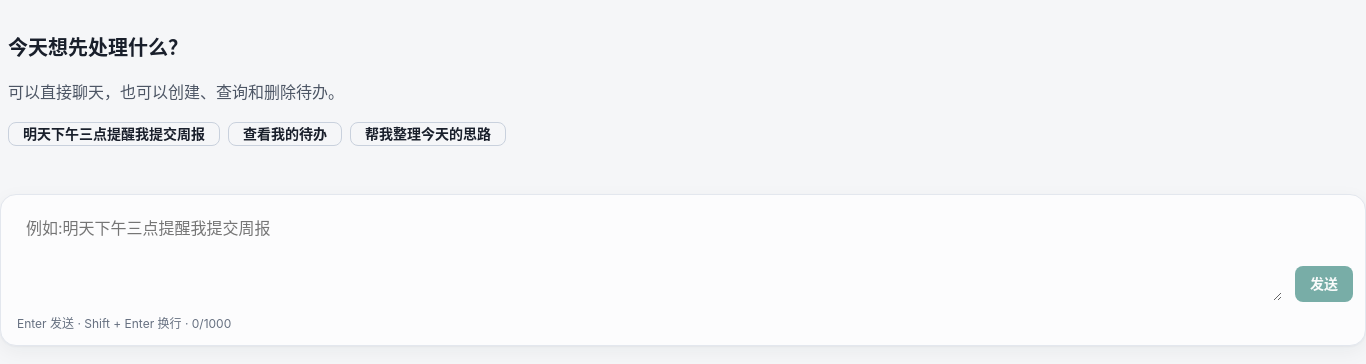
Test case: renders a chat reply as the assistant message
In the text box named "消息": point(650, 254) x1=17 y1=207 x2=1283 y2=302, type "今天天气怎么样"
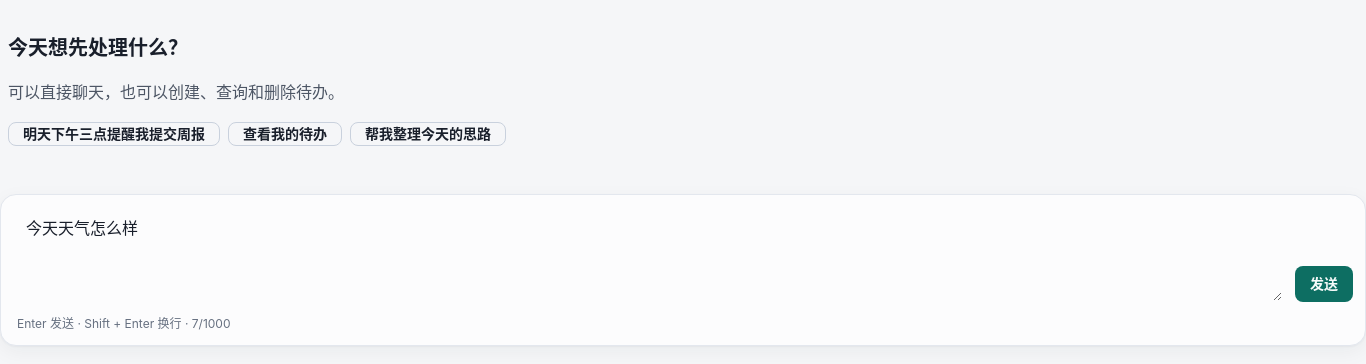
Click the button "发送": point(1324, 284) x1=1295 y1=266 x2=1353 y2=302
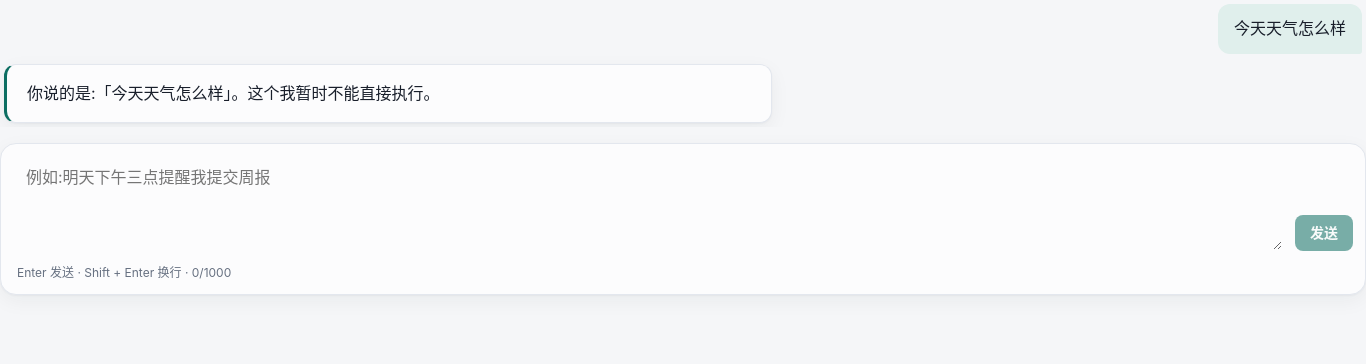
Expected: the text "你说的是:「今天天气怎么样」。这个我暂时不能直接执行。" is shown, x1=27 y1=83 x2=440 y2=103
